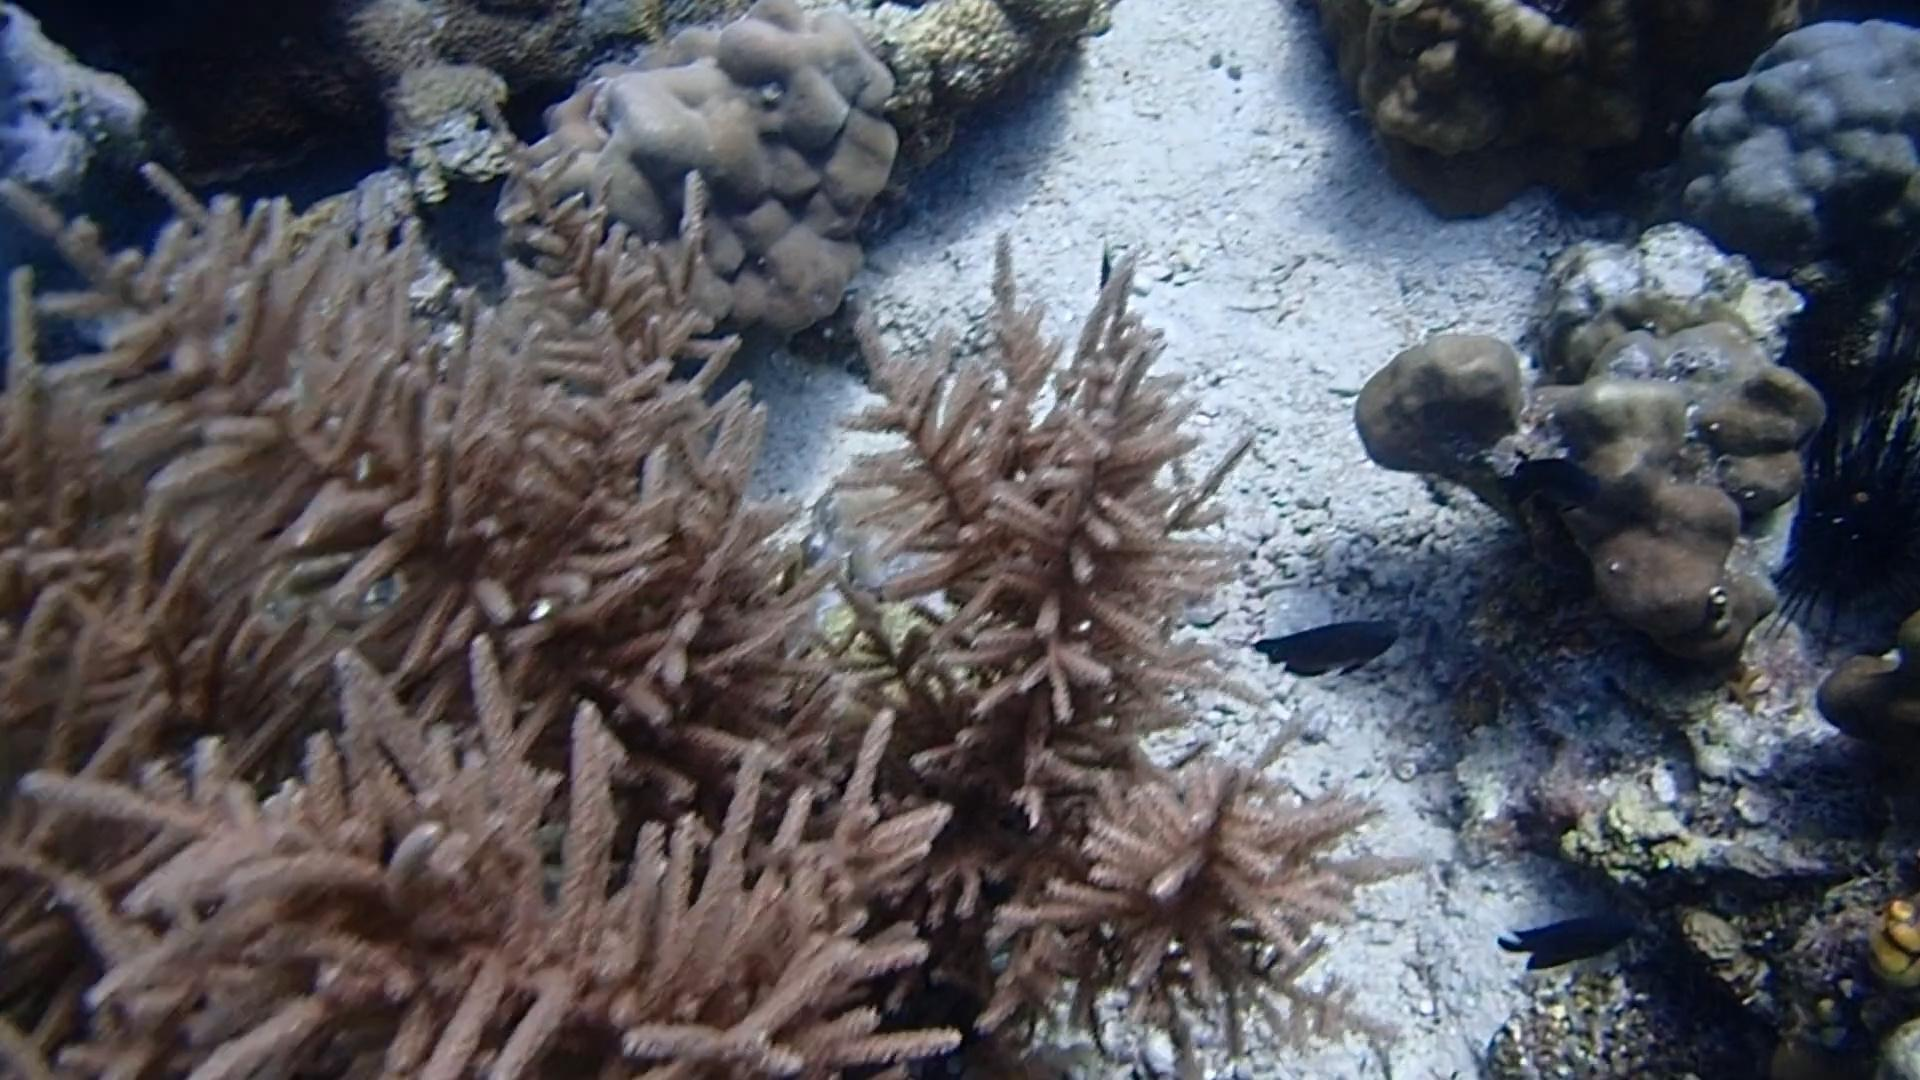Dark Fish: (1240, 608, 1415, 688), (1489, 911, 1642, 973), (1498, 448, 1605, 521)
